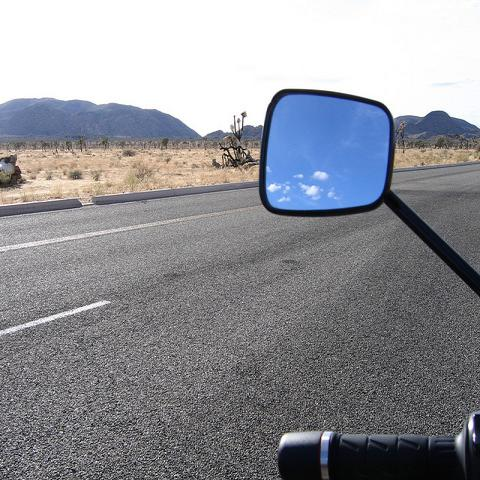motorcycle: (255, 87, 479, 472)
